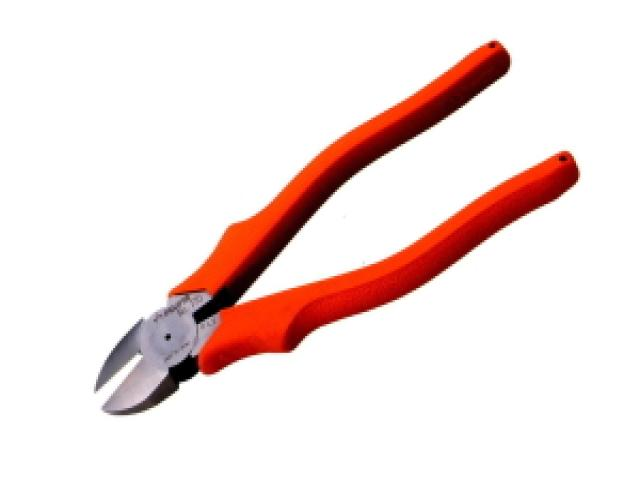Cutting pliers: (95, 42, 579, 414)
